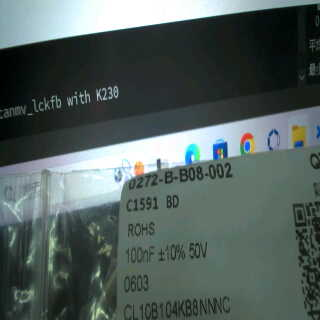100nF: (122, 240, 155, 269)
